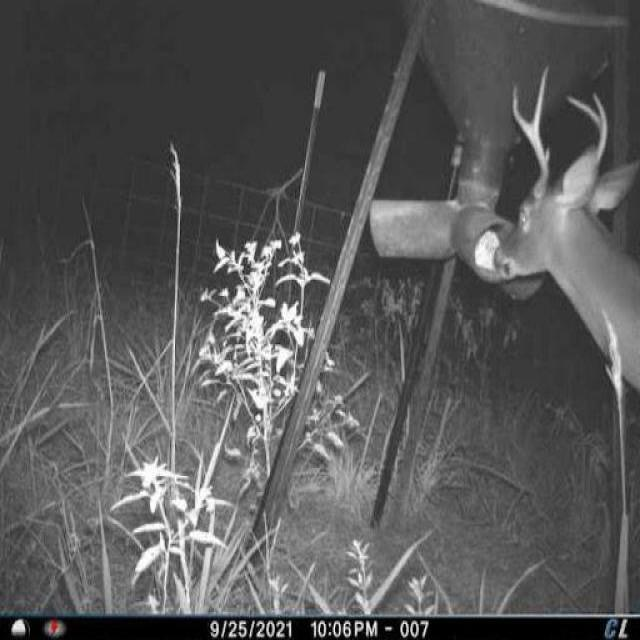deer: (490, 57, 640, 412)
